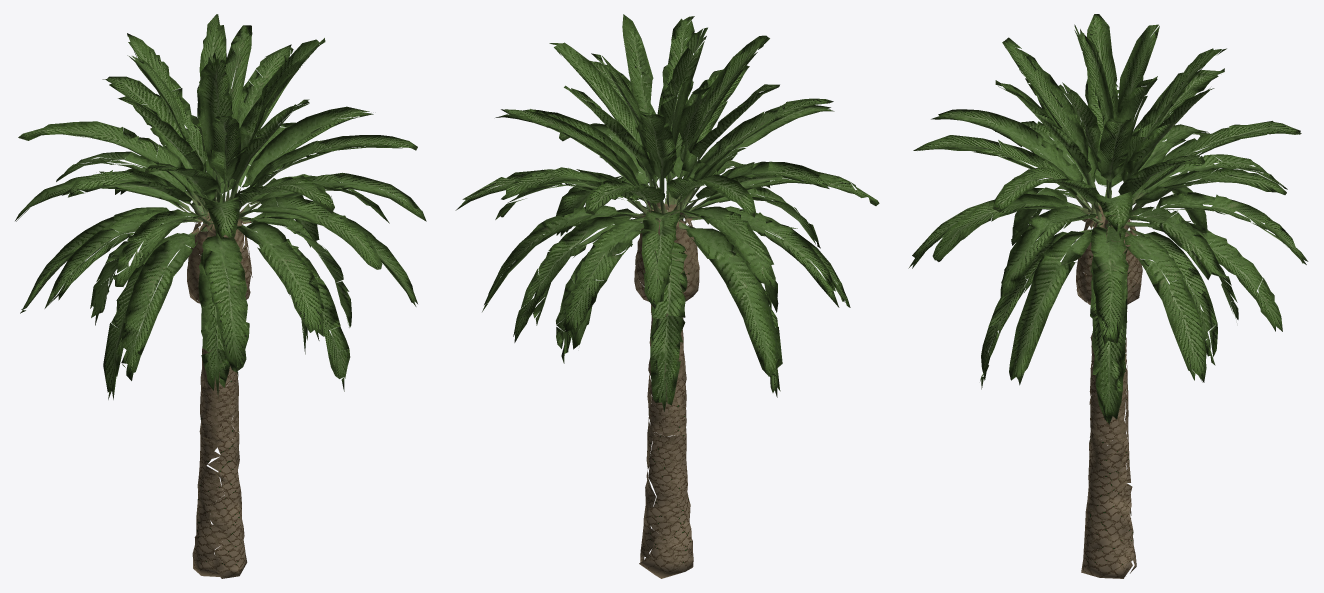
Rendered from palmera.glb.
The picture shows the model from 3 angles, left to right: view 1: azimuth 30°, elevation 25°; view 2: azimuth 150°, elevation 25°; view 3: azimuth 270°, elevation 25°; orthographic projection.
Parts seen in each view (by area): view 1: tripo_node_457eb181-45ad-4a7c-b07e-6ac9b0ce58cb; view 2: tripo_node_457eb181-45ad-4a7c-b07e-6ac9b0ce58cb; view 3: tripo_node_457eb181-45ad-4a7c-b07e-6ac9b0ce58cb.
Part boxes in pixels (bbox=[...]): tripo_node_457eb181-45ad-4a7c-b07e-6ac9b0ce58cb: bbox=[15, 14, 426, 578]; tripo_node_457eb181-45ad-4a7c-b07e-6ac9b0ce58cb: bbox=[455, 14, 879, 578]; tripo_node_457eb181-45ad-4a7c-b07e-6ac9b0ce58cb: bbox=[908, 14, 1308, 578].
Bounding box in the file's own units: 0.6543 × 0.9938 × 0.6593.
Materials: 1 (1 with a texture image).
